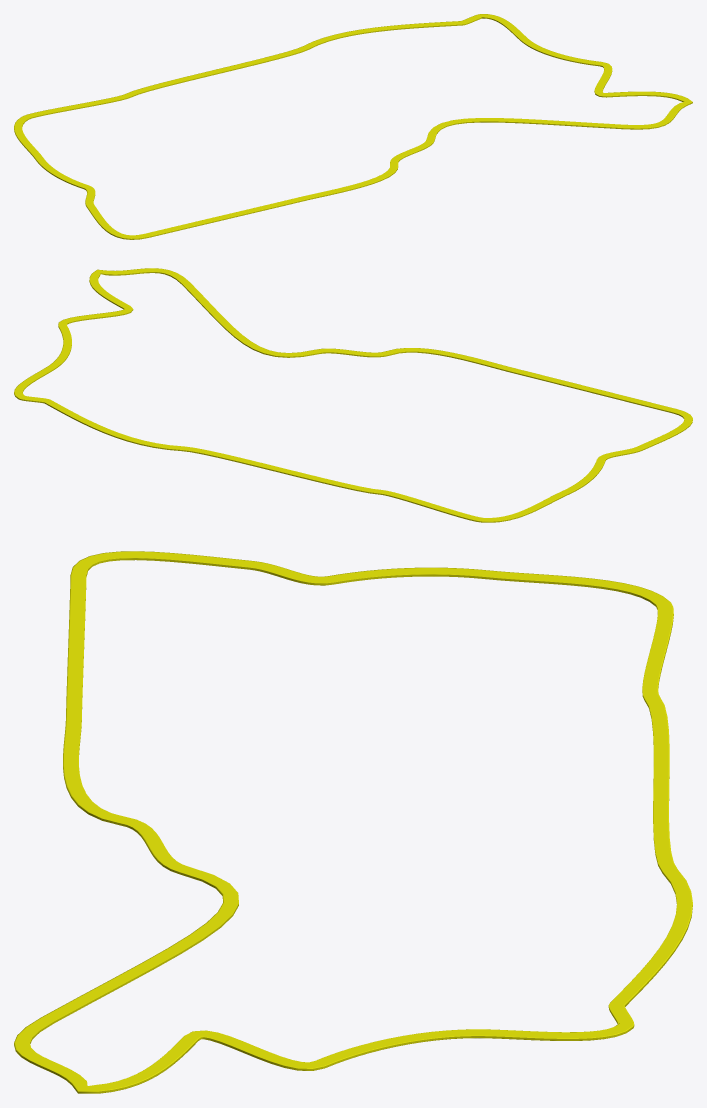
Rendered from lenta4.dae.
The picture shows the model from 3 angles, top to bottom: view 1: azimuth 30°, elevation 25°; view 2: azimuth 150°, elevation 25°; view 3: azimuth 270°, elevation 25°; orthographic projection. The views are drawn at different scales.
Parts seen in each view (by area): view 1: BezierCurve_003; view 2: BezierCurve_003; view 3: BezierCurve_003.
Boxes of the visible parts, <box> form: BezierCurve_003: <box>14,14,692,239</box>; BezierCurve_003: <box>14,268,692,522</box>; BezierCurve_003: <box>14,551,692,1093</box>.
Bounding box in the file's own units: 5.34 × 2.83 × 0.01.
